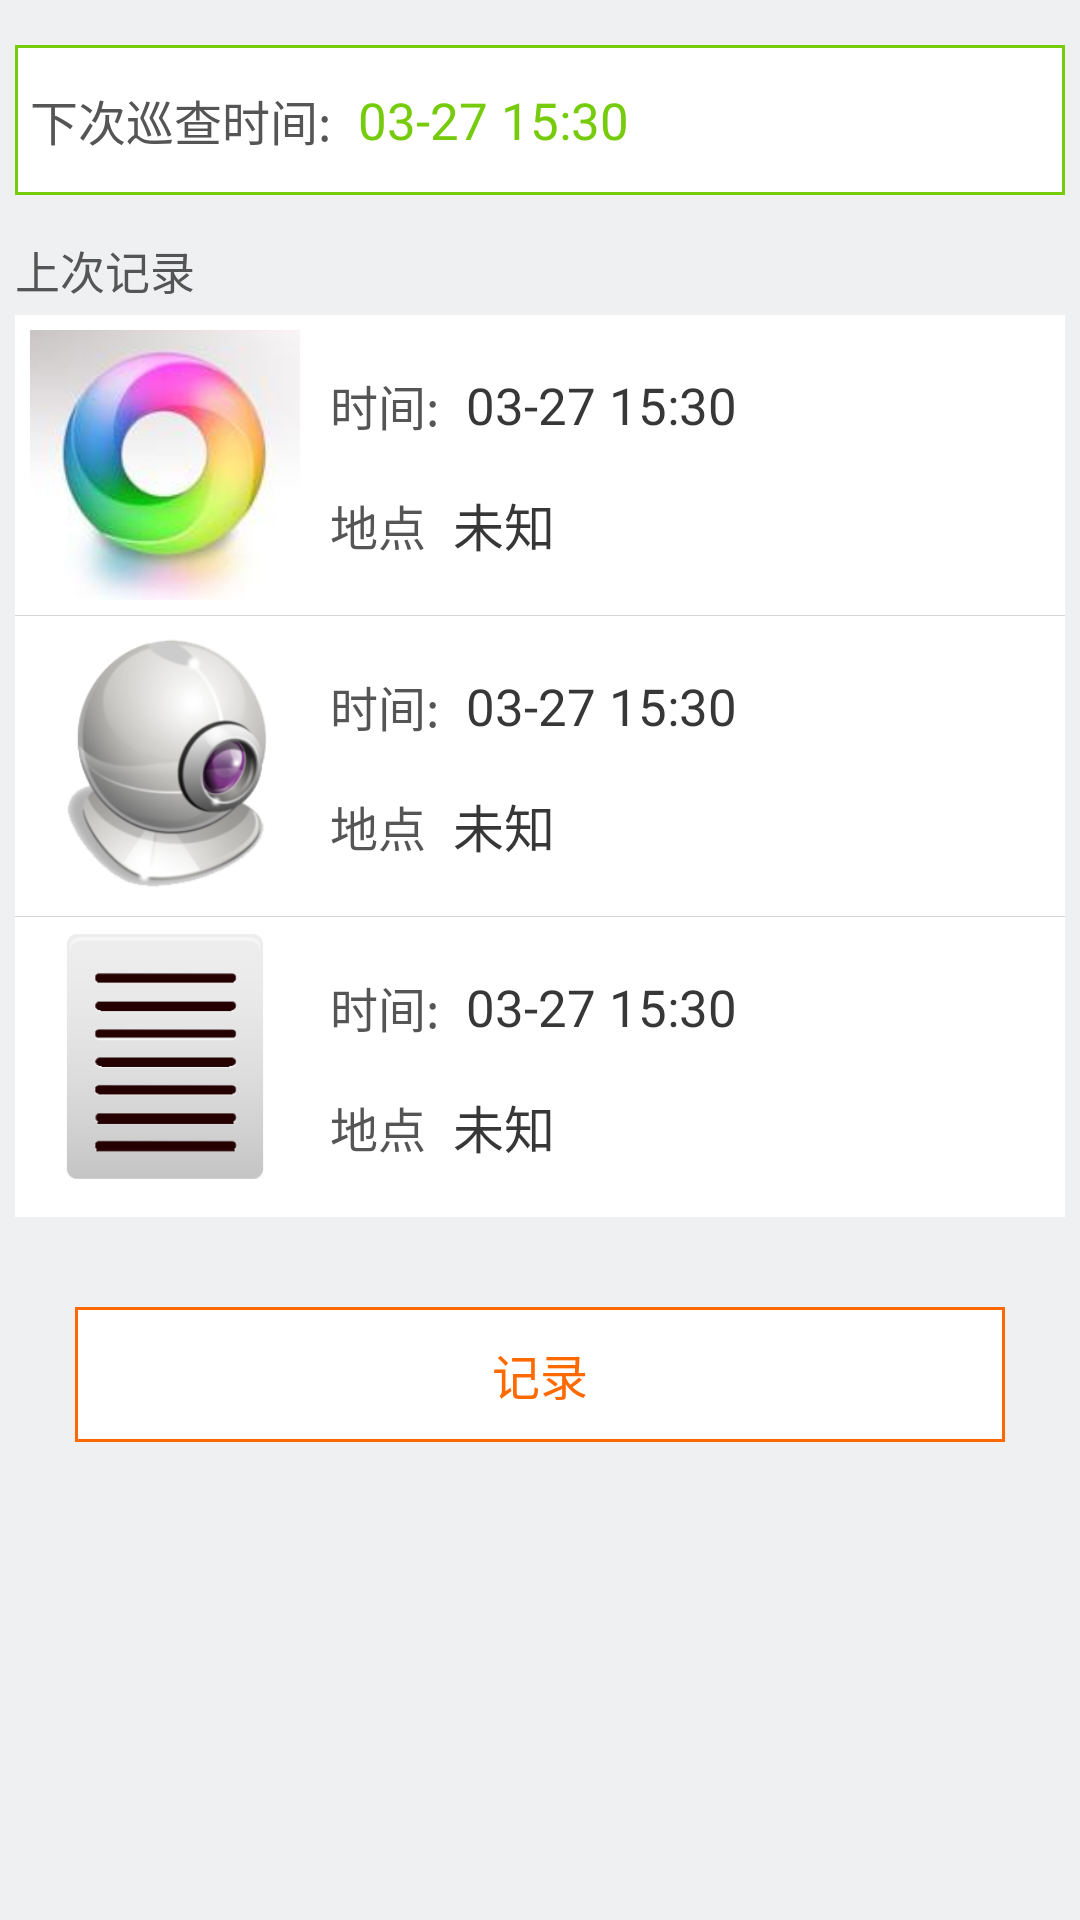

Icons on this 1080x1920 Android screen, each with its box as (x1, y1, x2, y2):
text: (67, 973, 263, 1179)
video: (68, 640, 266, 886)
